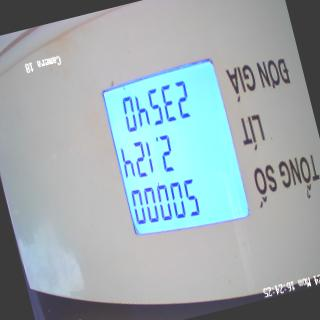screen: (95, 56, 256, 252)
